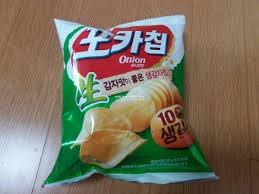snack: (39, 15, 221, 188)
